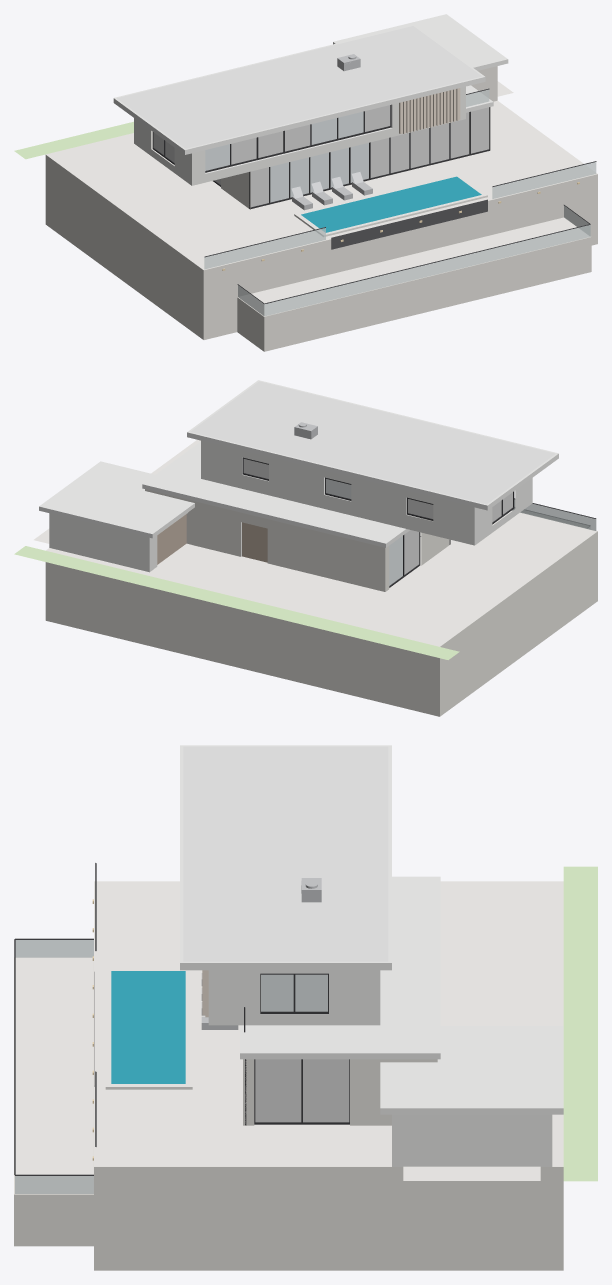
The model's file is mansion_w130a.glb.
The picture shows the model from 3 angles, top to bottom: view 1: azimuth 30°, elevation 25°; view 2: azimuth 150°, elevation 25°; view 3: azimuth 270°, elevation 25°; orthographic projection. The views are drawn at different scales.
Parts seen in each view (by area): view 1: mansion_w130a_Walls2, mansion_w130a_Site, mansion_w130a_Roof, mansion_w130a_Clear, mansion_w130a_WindowsLit, mansion_w130a_Trim, mansion_w130a_Glass, mansion_w130a_Water, mansion_w130a_Walls, mansion_w130a_Frames, mansion_w130a_Walls3, mansion_w130a_Accent (+2 smaller); view 2: mansion_w130a_Walls2, mansion_w130a_Site, mansion_w130a_Roof, mansion_w130a_Trim, mansion_w130a_Walls, mansion_w130a_Lawn, mansion_w130a_Doors, mansion_w130a_WindowsLit, mansion_w130a_Glass, mansion_w130a_Clear, mansion_w130a_Frames; view 3: mansion_w130a_Site, mansion_w130a_Walls2, mansion_w130a_Roof, mansion_w130a_Trim, mansion_w130a_Walls, mansion_w130a_Lawn, mansion_w130a_Water, mansion_w130a_WindowsLit, mansion_w130a_Clear, mansion_w130a_Glass, mansion_w130a_Frames, mansion_w130a_Details.
Part boxes in pixels (x1,y1,x2,y2): mansion_w130a_Walls2: [45, 66, 597, 351]; mansion_w130a_Site: [46, 81, 597, 315]; mansion_w130a_Roof: [117, 26, 481, 148]; mansion_w130a_Clear: [204, 89, 596, 316]; mansion_w130a_WindowsLit: [153, 105, 489, 207]; mansion_w130a_Trim: [113, 14, 508, 173]; mansion_w130a_Glass: [205, 111, 368, 202]; mansion_w130a_Water: [301, 176, 481, 232]; mansion_w130a_Walls: [134, 86, 465, 185]; mansion_w130a_Frames: [152, 88, 596, 303]; mansion_w130a_Walls3: [399, 88, 460, 133]; mansion_w130a_Accent: [331, 199, 487, 249]; mansion_w130a_Walls2: [45, 489, 597, 716]; mansion_w130a_Site: [34, 439, 597, 646]; mansion_w130a_Roof: [190, 381, 555, 504]; mansion_w130a_Trim: [39, 380, 558, 556]; mansion_w130a_Walls: [49, 440, 532, 572]; mansion_w130a_Lawn: [14, 546, 459, 659]; mansion_w130a_Doors: [157, 514, 267, 564]; mansion_w130a_WindowsLit: [243, 459, 512, 574]; mansion_w130a_Glass: [326, 479, 402, 585]; mansion_w130a_Clear: [512, 499, 596, 530]; mansion_w130a_Frames: [242, 457, 596, 587]; mansion_w130a_Site: [15, 881, 563, 1193]; mansion_w130a_Walls2: [14, 957, 563, 1270]; mansion_w130a_Roof: [183, 746, 388, 961]; mansion_w130a_Trim: [180, 745, 563, 1114]; mansion_w130a_Walls: [208, 970, 552, 1166]; mansion_w130a_Lawn: [563, 866, 597, 1181]; mansion_w130a_Water: [111, 971, 185, 1083]; mansion_w130a_WindowsLit: [255, 1059, 349, 1122]; mansion_w130a_Clear: [15, 940, 93, 1193]; mansion_w130a_Glass: [261, 974, 327, 1011]; mansion_w130a_Frames: [14, 863, 349, 1175]; mansion_w130a_Details: [201, 878, 321, 1029].
Bounding box in the file's own units: 130 × 50.4 × 102.
